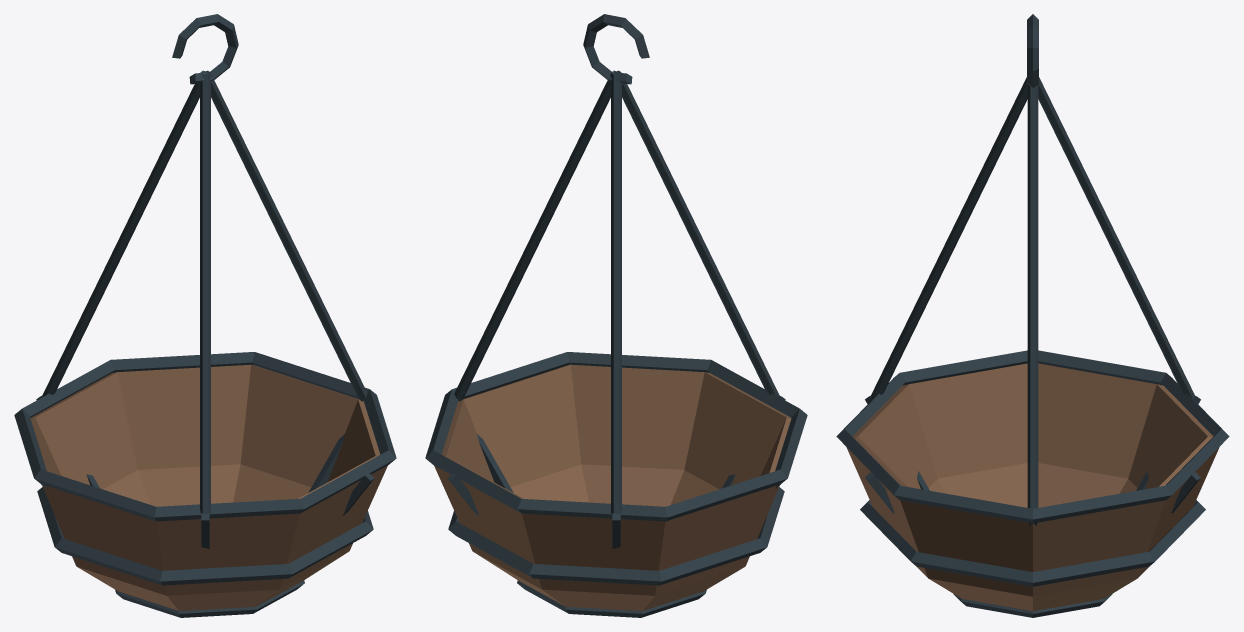
Rendered from b11_hanging_wire_basket_empty.glb.
3 renders of one model, left to right at view 1: azimuth 30°, elevation 25°; view 2: azimuth 150°, elevation 25°; view 3: azimuth 270°, elevation 25°, orthographic.
Visible parts, largest first — view 1: b11_hanging_wire_basket_empty; view 2: b11_hanging_wire_basket_empty; view 3: b11_hanging_wire_basket_empty.
Part boxes in pixels (x1=…): b11_hanging_wire_basket_empty: x1=14, y1=14, x2=396, y2=617; b11_hanging_wire_basket_empty: x1=425, y1=14, x2=807, y2=617; b11_hanging_wire_basket_empty: x1=836, y1=14, x2=1229, y2=617.
Size of the model in its own units: 0.584 by 0.9249 by 0.584.
